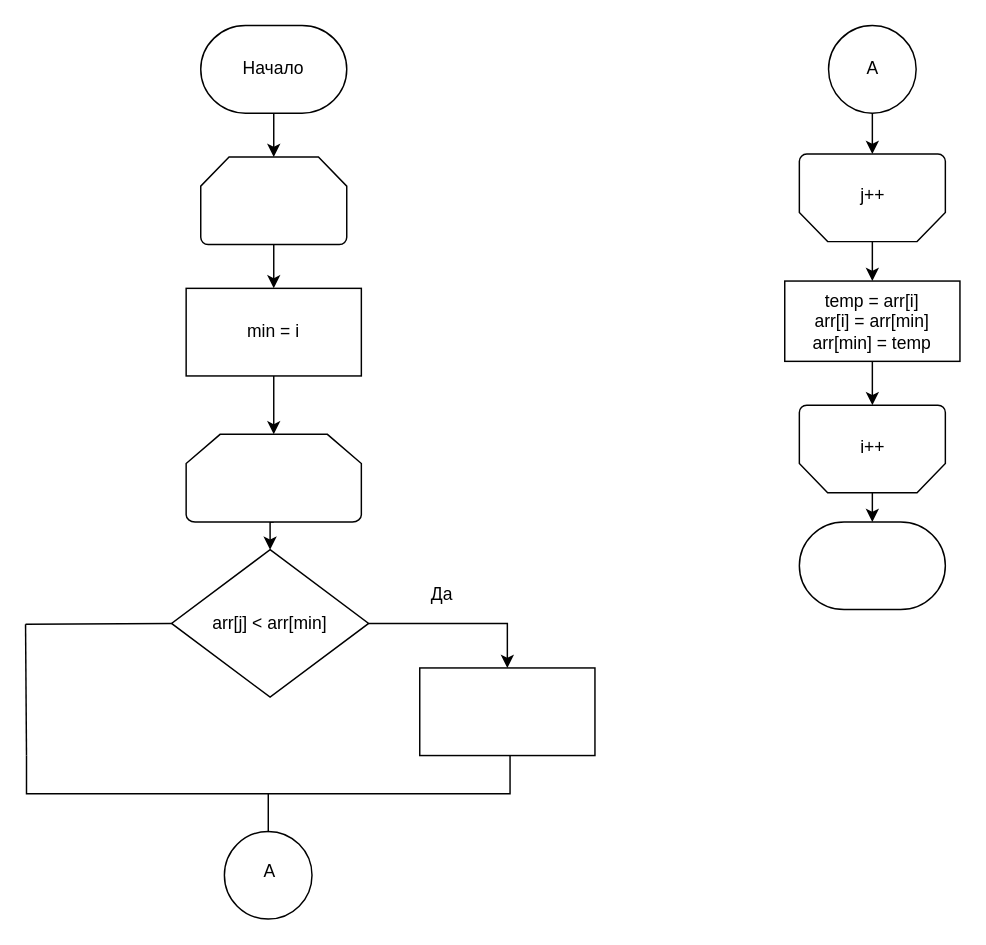
The diagram is 986 pixels wide and 945 high, and some of its shapes have lost their labels. Here are the shapes that lost their labels. From the top down, the centre of each, then its label:
(x=273, y=200): i = 0 ... n
(x=273, y=477): j = i + 1 ... n
(x=871, y=565): Конец
(x=506, y=711): min = j
